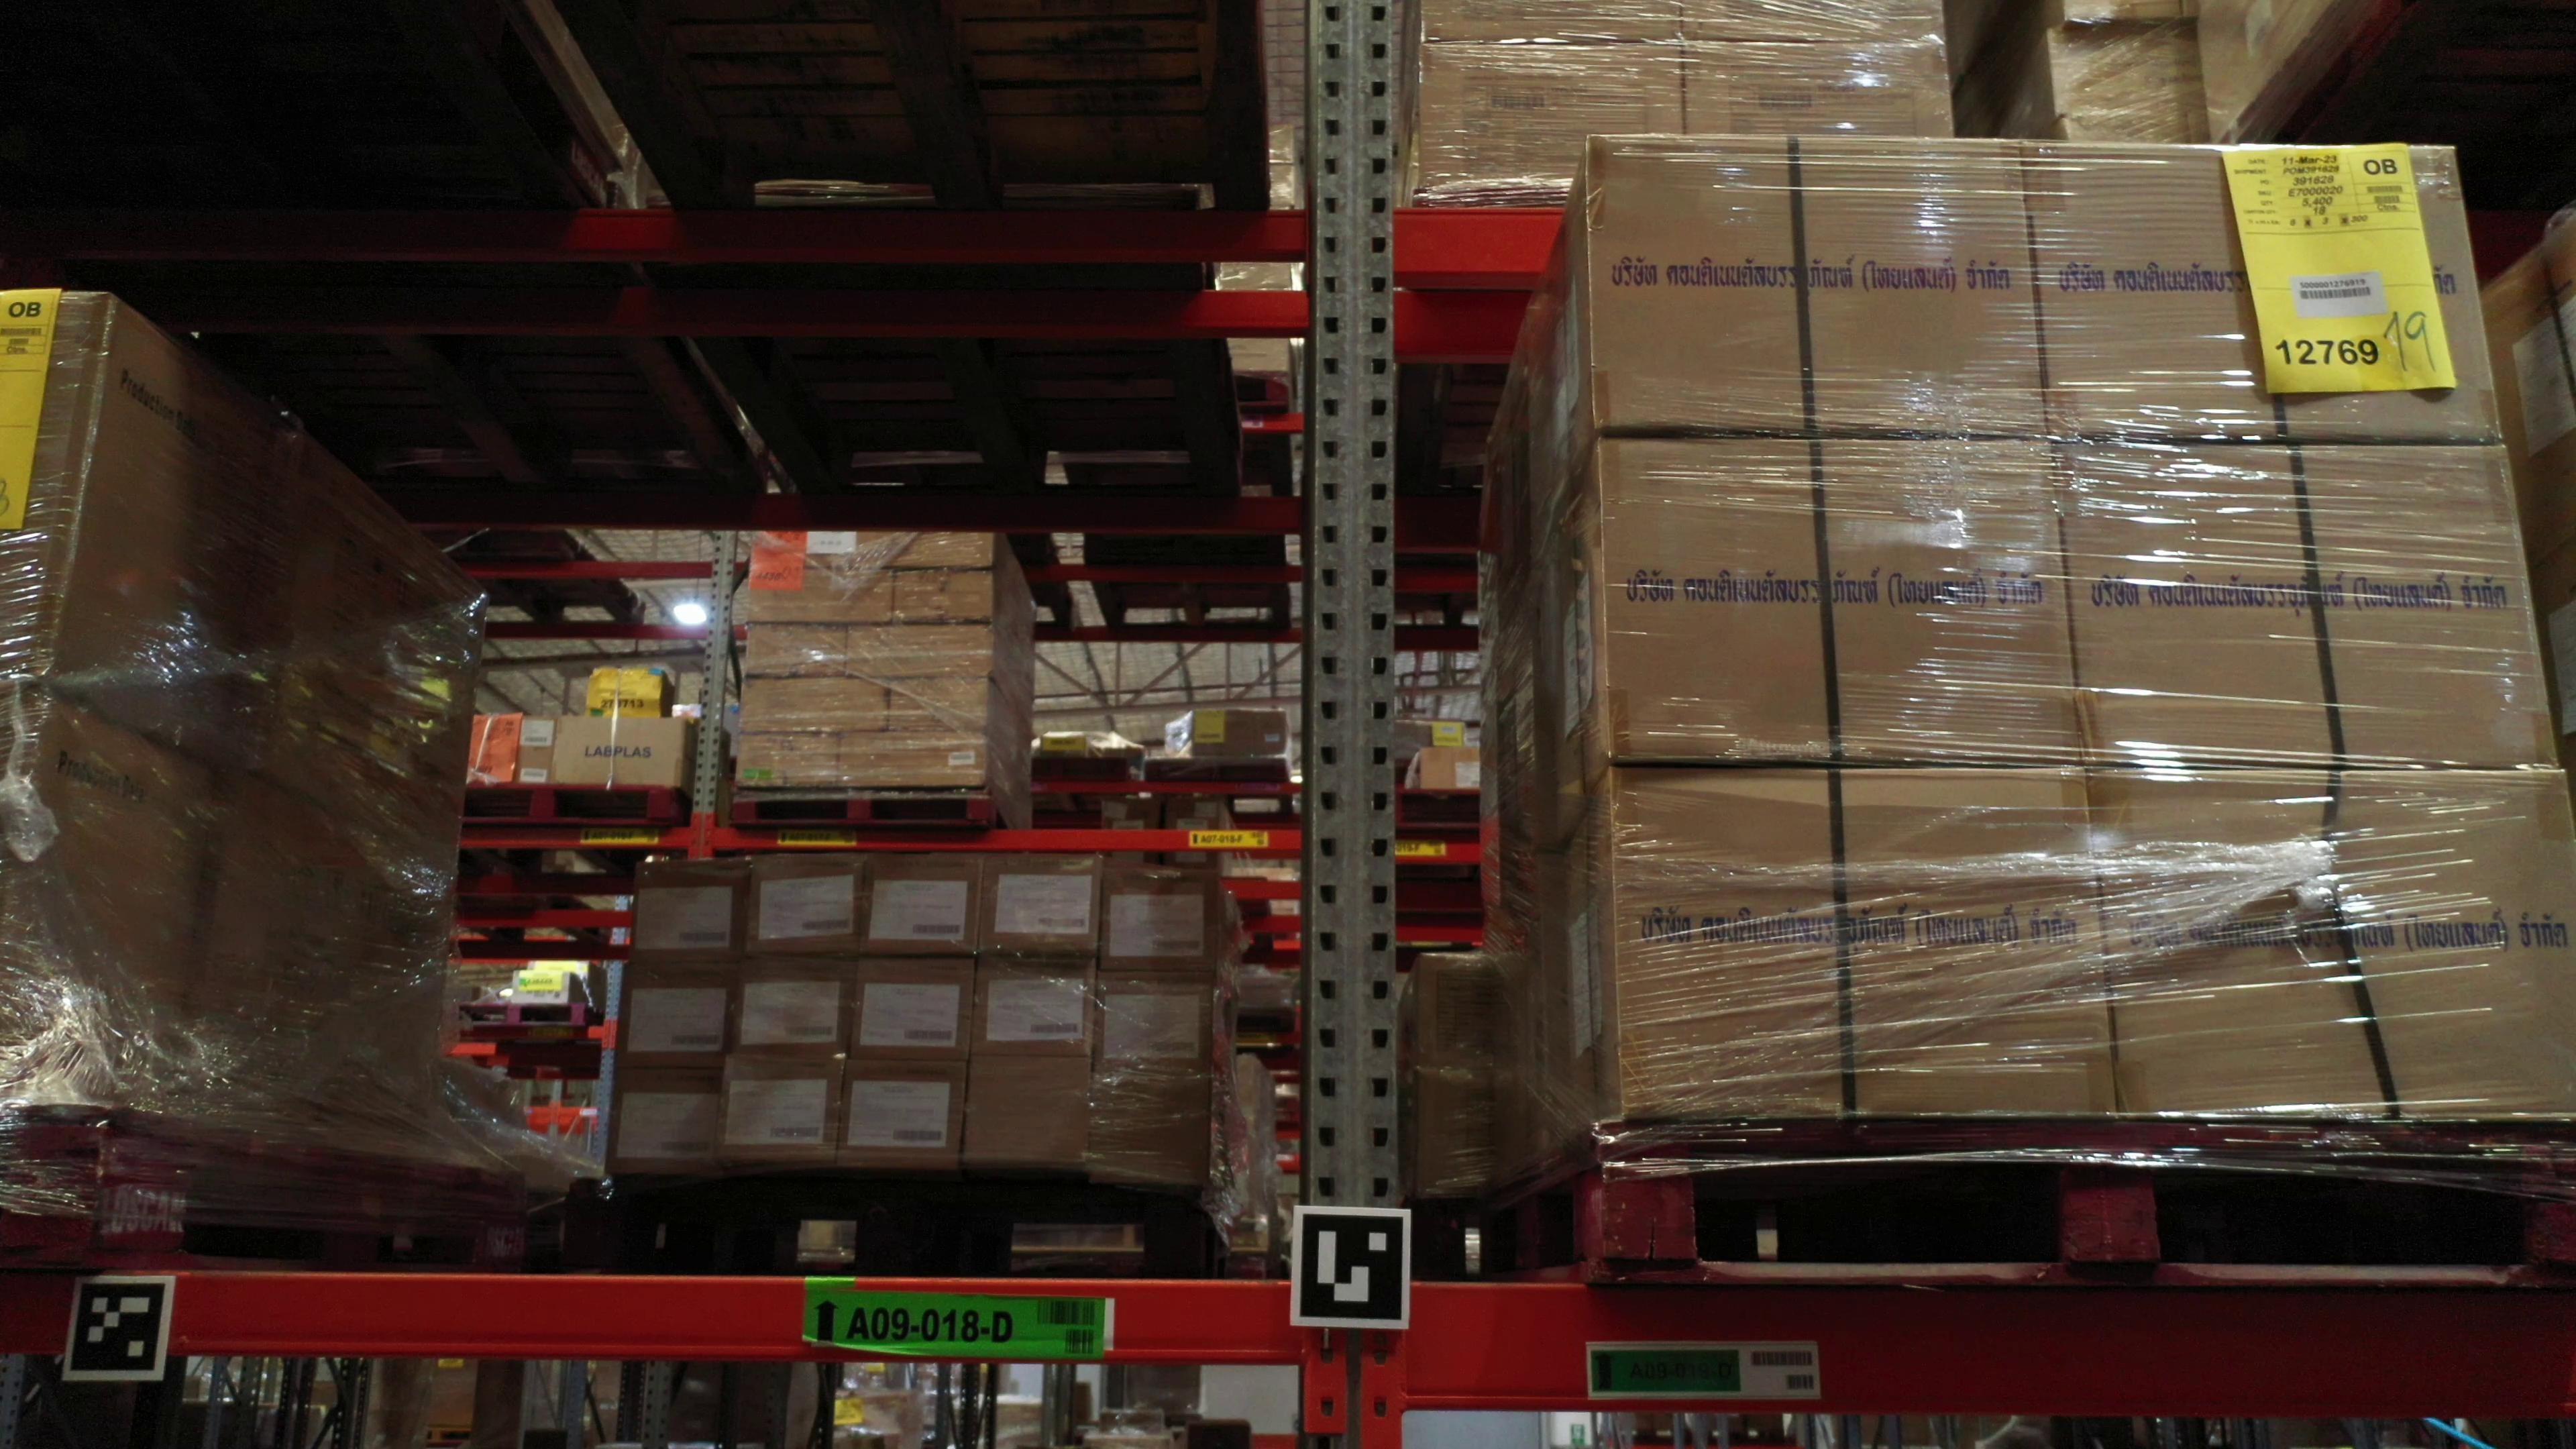-: (1603, 757, 2120, 1122), (2086, 763, 2576, 1118), (2051, 435, 2562, 770), (1596, 432, 2082, 768), (2017, 134, 2507, 446), (1585, 134, 2051, 433), (0, 290, 113, 686)
box: (1415, 37, 1686, 203), (1681, 41, 1955, 138), (961, 1054, 1095, 1166), (1083, 1069, 1210, 1185), (713, 1054, 846, 1166), (837, 1058, 970, 1168), (725, 954, 858, 1058), (738, 851, 870, 955), (856, 847, 984, 955), (847, 954, 977, 1058), (970, 954, 1099, 1058), (605, 1062, 722, 1175), (1097, 863, 1217, 973), (614, 961, 736, 1067), (977, 853, 1100, 955), (1095, 971, 1214, 1077), (626, 858, 748, 961)
